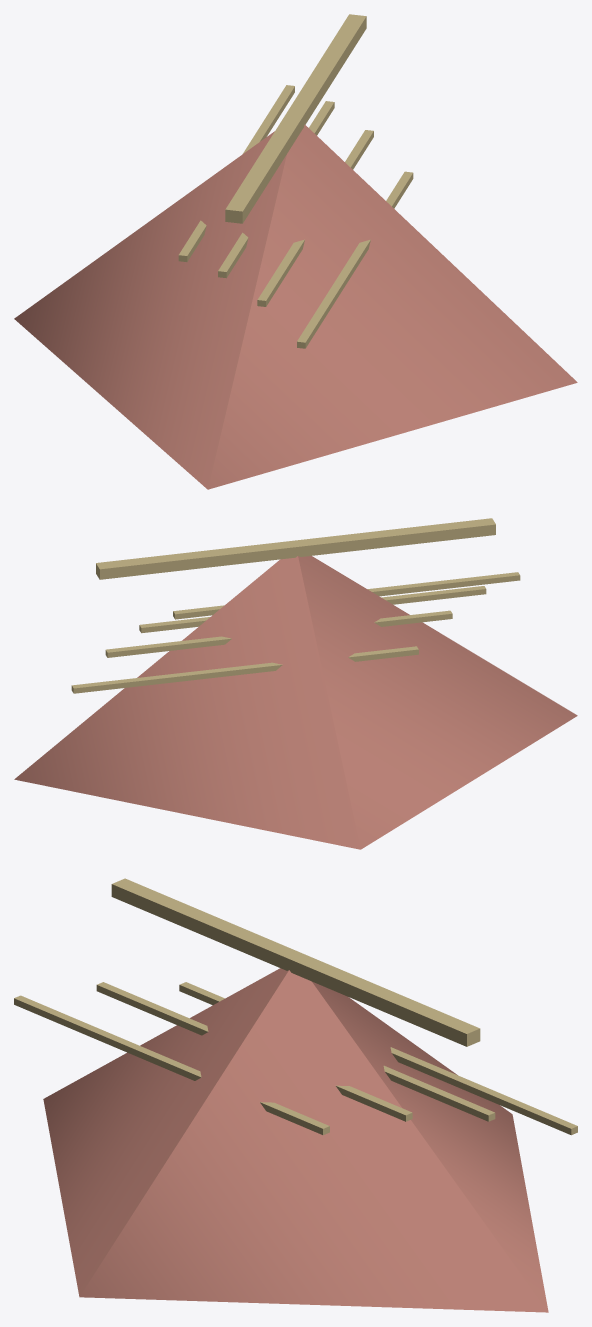
The model's file is roof_panel.glb.
3 renders of one model, top to bottom at view 1: azimuth 30°, elevation 25°; view 2: azimuth 150°, elevation 25°; view 3: azimuth 270°, elevation 25°, orthographic. The views are drawn at different scales.
Parts seen in each view (by area): view 1: roof_module, roof_ridge, roof_tile_105, roof_tile_035, roof_tile_-105, roof_tile_-035; view 2: roof_module, roof_ridge, roof_tile_-105, roof_tile_-035, roof_tile_105, roof_tile_035; view 3: roof_module, roof_ridge, roof_tile_105, roof_tile_-105, roof_tile_035, roof_tile_-035.
Part boxes in pixels (left/top/right/bottom): roof_module: left=14, top=124, right=577, bottom=489; roof_ridge: left=225, top=14, right=366, bottom=223; roof_tile_105: left=297, top=171, right=413, bottom=348; roof_tile_035: left=257, top=130, right=373, bottom=306; roof_tile_-105: left=178, top=85, right=294, bottom=261; roof_tile_-035: left=218, top=101, right=334, bottom=278; roof_module: left=14, top=556, right=577, bottom=849; roof_ridge: left=96, top=518, right=495, bottom=579; roof_tile_-105: left=71, top=646, right=418, bottom=693; roof_tile_-035: left=105, top=610, right=452, bottom=657; roof_tile_105: left=173, top=572, right=520, bottom=619; roof_tile_035: left=139, top=586, right=486, bottom=633; roof_module: left=43, top=968, right=548, bottom=1312; roof_ridge: left=111, top=878, right=480, bottom=1046; roof_tile_105: left=14, top=995, right=329, bottom=1135; roof_tile_-105: left=390, top=1047, right=577, bottom=1135; roof_tile_035: left=96, top=982, right=412, bottom=1121; roof_tile_-035: left=179, top=982, right=495, bottom=1121.
Size of what is drawn, in the model's own units: 4.28 by 2.33 by 4.77.
